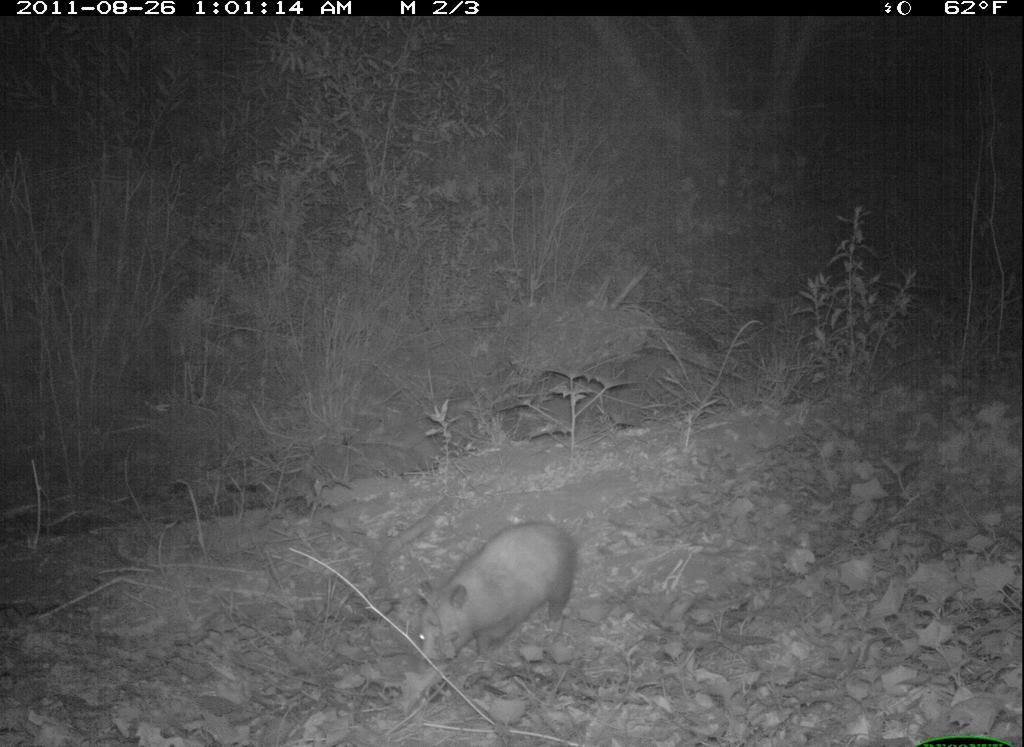opossum: (411, 518, 585, 681)
